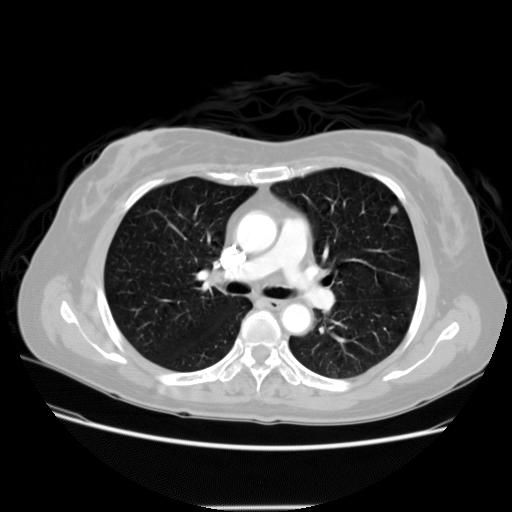nodule: (387, 203, 400, 216)
